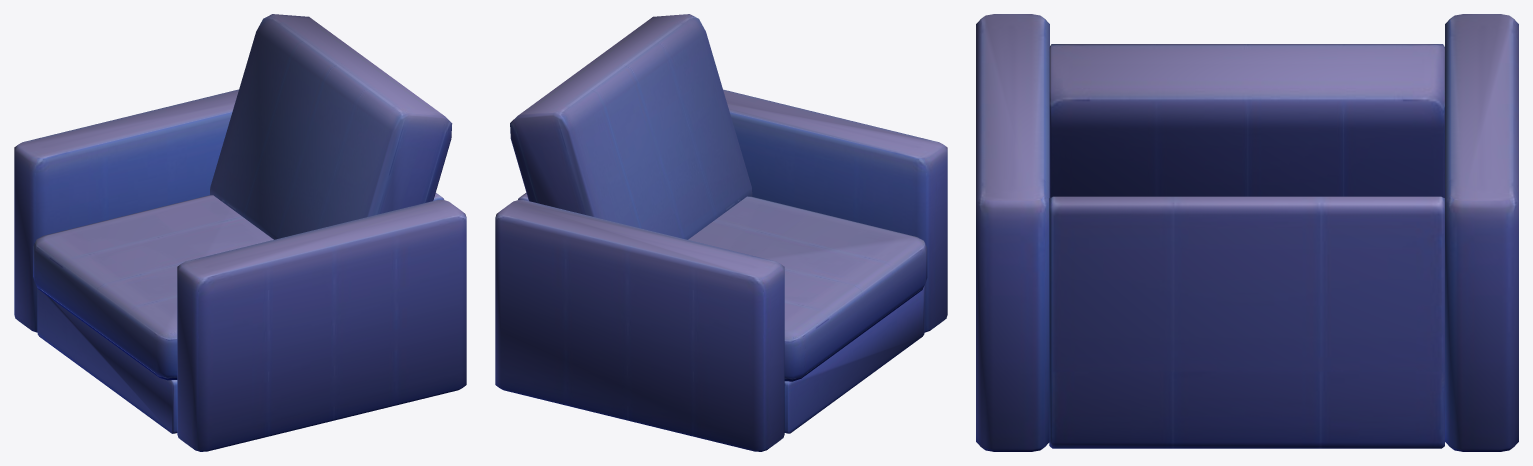
Rendered from M_SofaKecil.fbx.
3 renders of one model, left to right at view 1: azimuth 30°, elevation 25°; view 2: azimuth 150°, elevation 25°; view 3: azimuth 270°, elevation 25°, orthographic. The views are drawn at different scales.
Visible parts, largest first — view 1: SofaKecil; view 2: SofaKecil; view 3: SofaKecil.
Part boxes in pixels (x1,y1,x2,y2): SofaKecil: [14, 14, 466, 451]; SofaKecil: [495, 14, 947, 451]; SofaKecil: [976, 14, 1518, 451].
Bounding box in the file's own units: 106 × 93.32 × 120.
